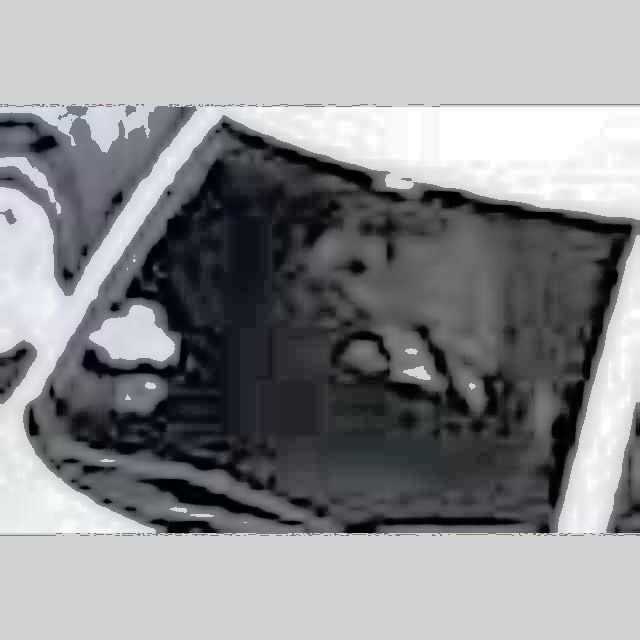pakai: (227, 183, 502, 410)
